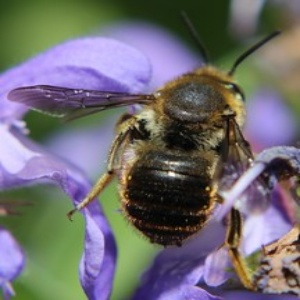bee: (114, 65, 256, 250)
